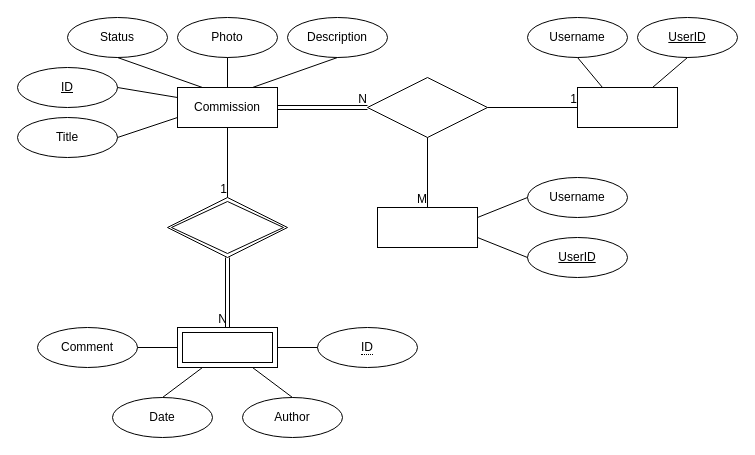
Some shapes in this 755 by 455 pixel diagram are drawn without their labels. Each missing label, with the centre of its shape:
"Client" goes at [427,227].
"Commissioner" goes at [627,107].
"Feedback" goes at [227,347].
"Has" goes at [227,227].
"Works On" goes at [427,107].
